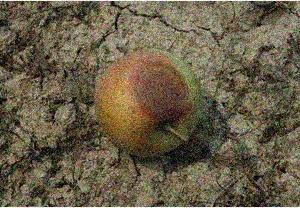rotten apple: (95, 53, 200, 158)
